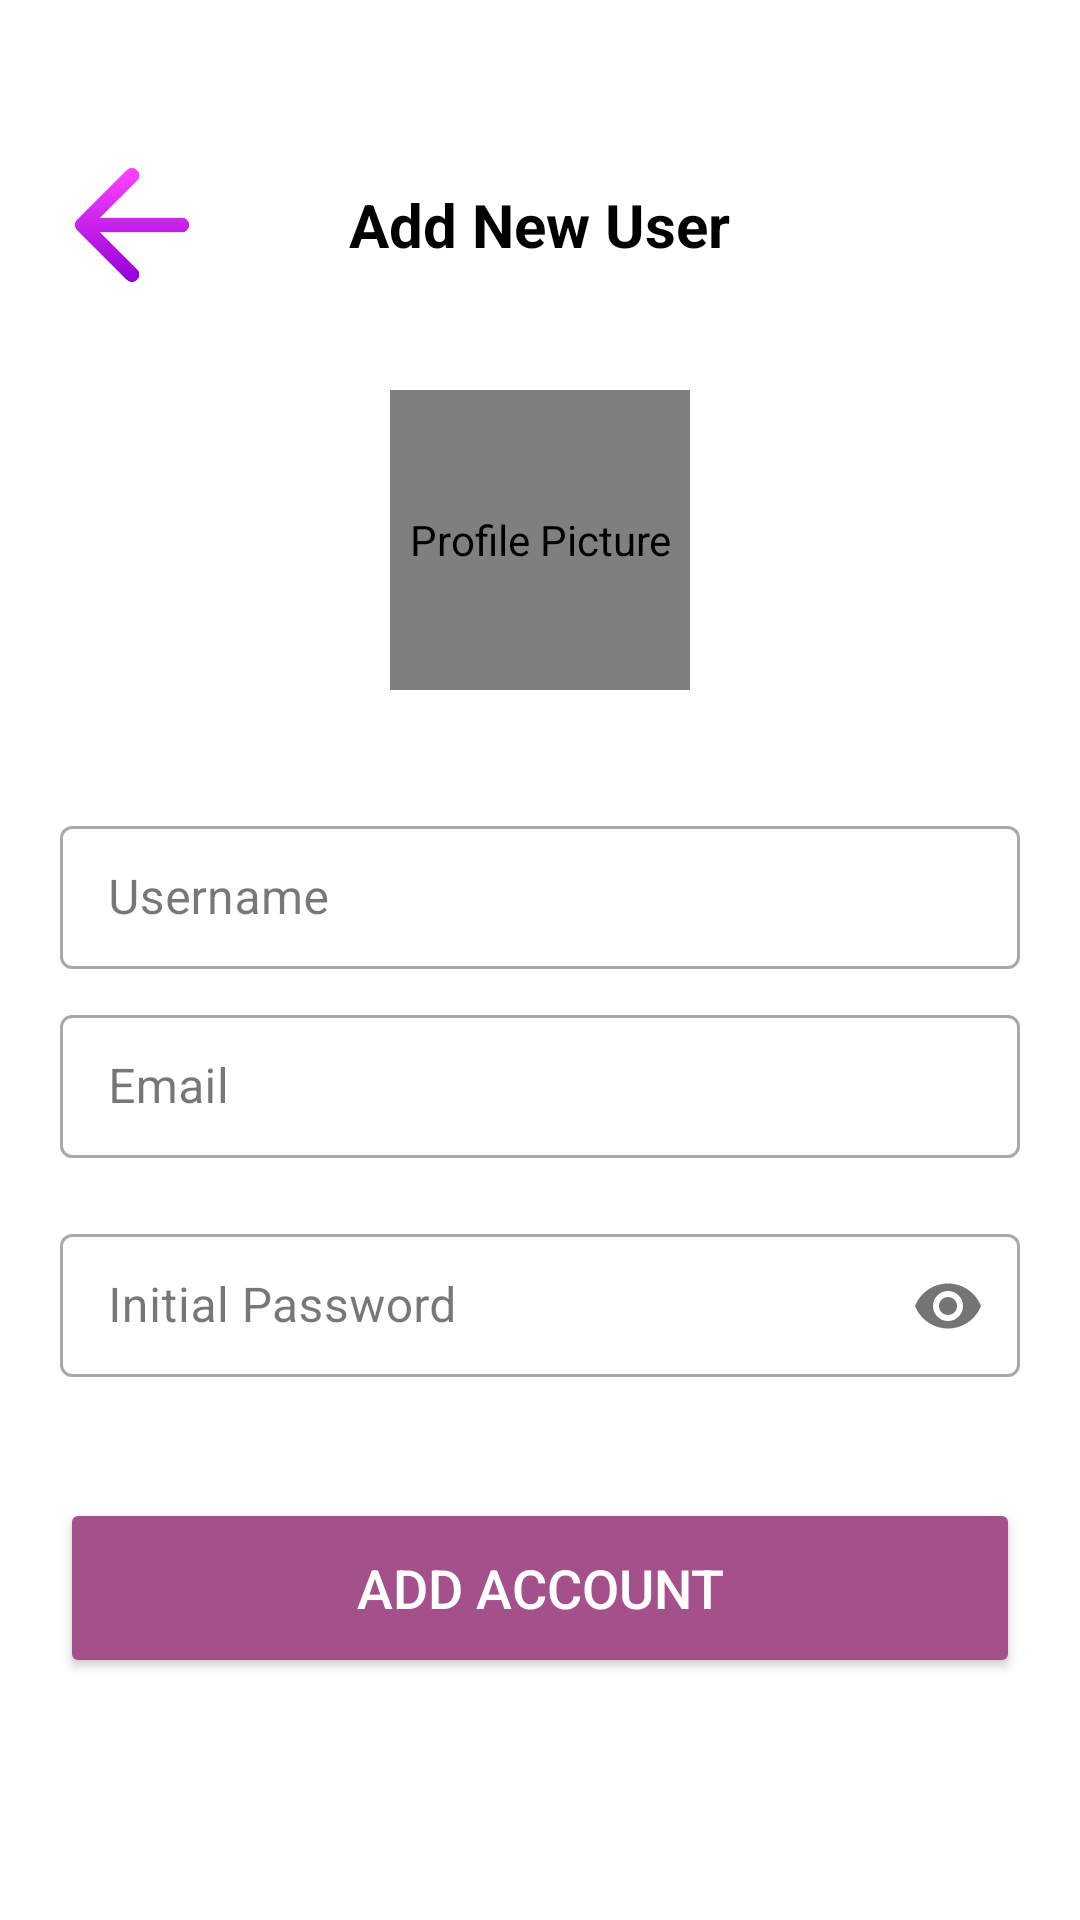

Where icons sit on this 1080px x 1920px app screen, as rect(x1, y1, x2, y2):
Back: rect(75, 168, 189, 282)
